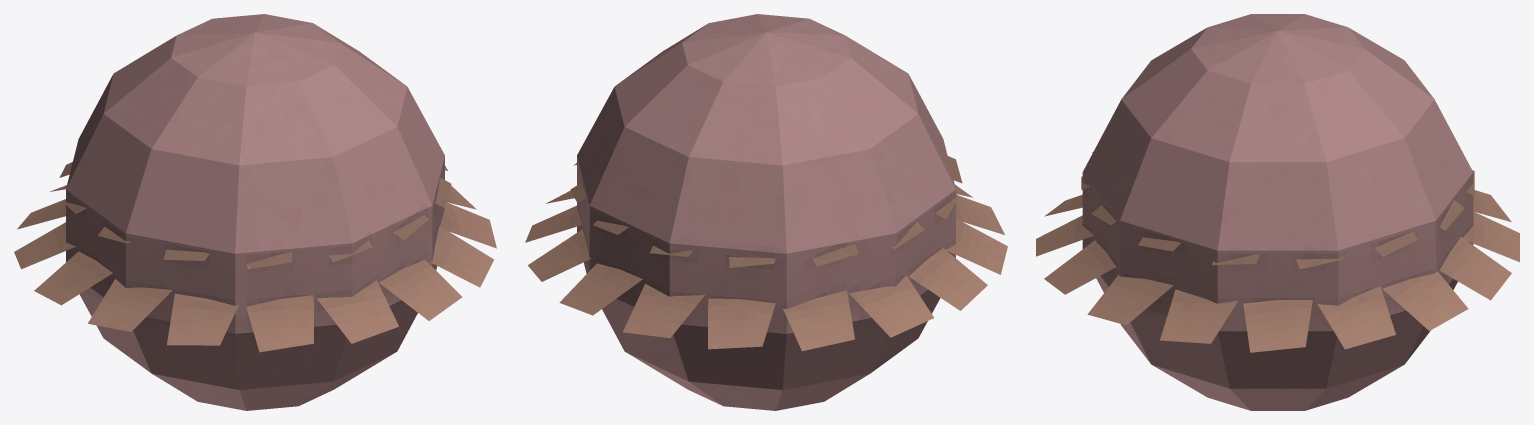
Rendered from pompon.glb.
3 views of the same model, side by side, from view 1: azimuth 30°, elevation 25°; view 2: azimuth 150°, elevation 25°; view 3: azimuth 270°, elevation 25° (orthographic).
Visible parts, largest first — view 1: Prop_Pompon; view 2: Prop_Pompon; view 3: Prop_Pompon.
Boxes of the visible parts, <box> form: Prop_Pompon: <box>14,14,496,410</box>; Prop_Pompon: <box>525,14,1007,410</box>; Prop_Pompon: <box>1036,14,1519,410</box>.
Size of the model in its own units: 0.966 by 0.8 by 0.966.
1 material, 1 textured.
